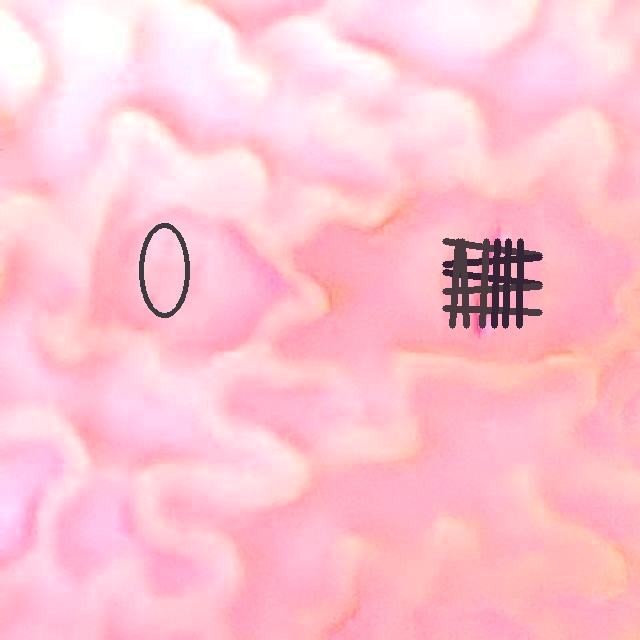close: (139, 223, 189, 317)
open: (442, 238, 542, 328)
